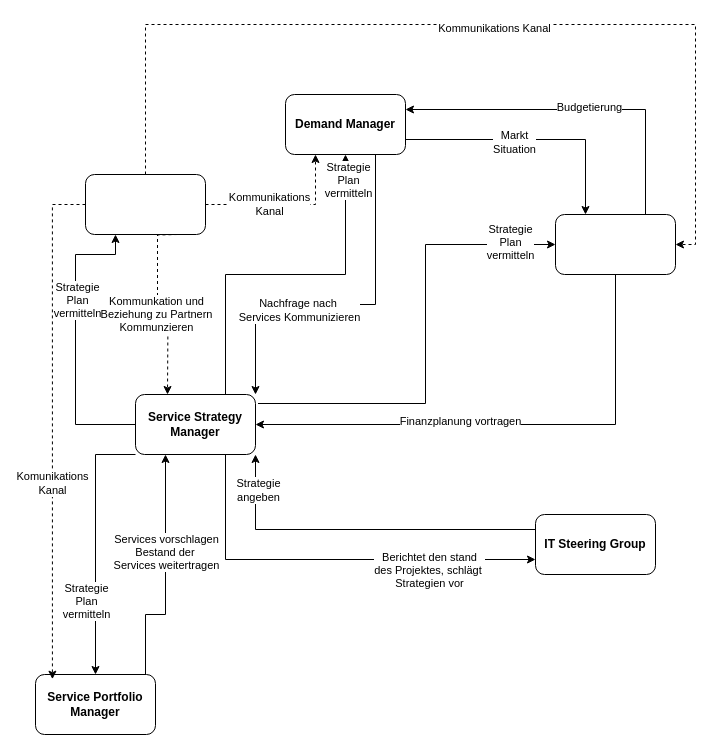
Image size: 722x752. Some labels were removed from this diagram. The shapes that lost their labels are listed below. From the top down, each one's box as (x1, y1, x2, y2) in pixels, then its label:
(84, 174, 206, 234): Business Relationship Manager
(554, 214, 676, 274): Financial Manager
